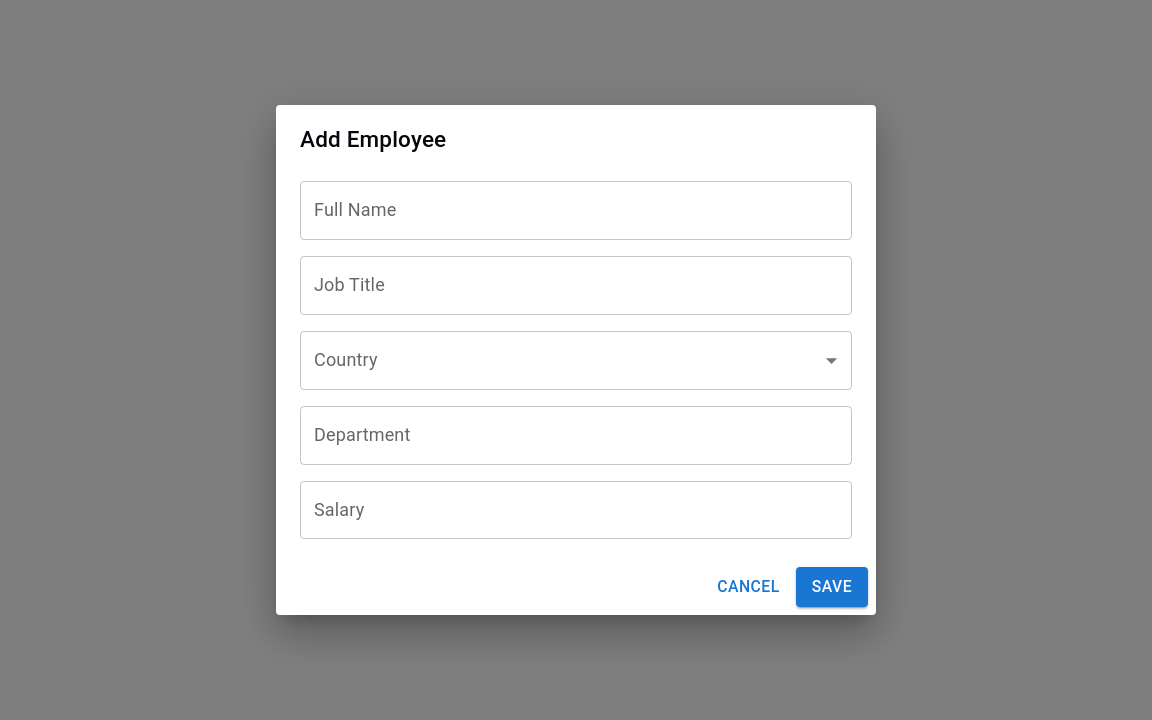
EmployeeFormModal › shows validation errors when submitting empty form
Click the button "Save" at [832, 587], box [796,567,868,607]
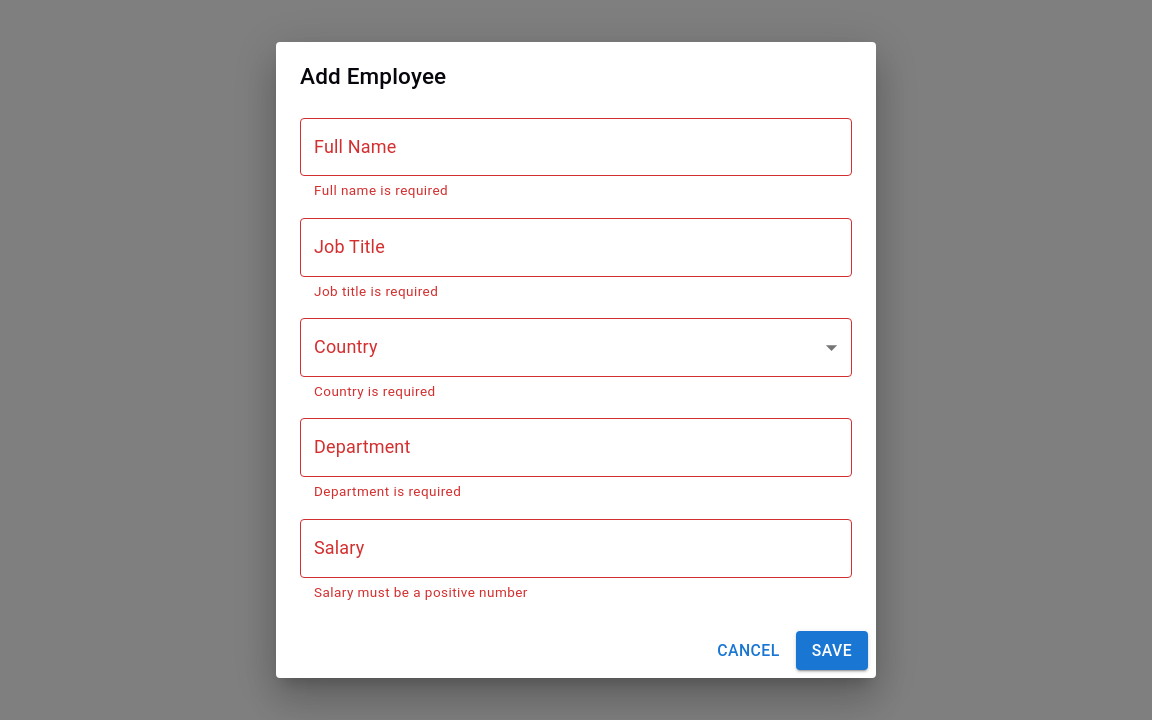
Now the text "Full name is required" is shown, box [314,182,448,198]
Now the text "Job title is required" is shown, box [314,283,438,299]
Now the text "Country is required" is shown, box [314,383,436,399]
